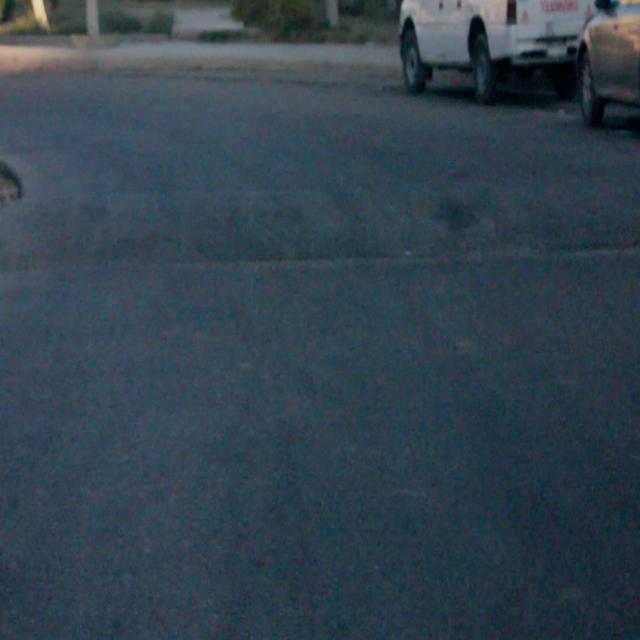NonMarked Bump: (26, 164, 640, 283)
